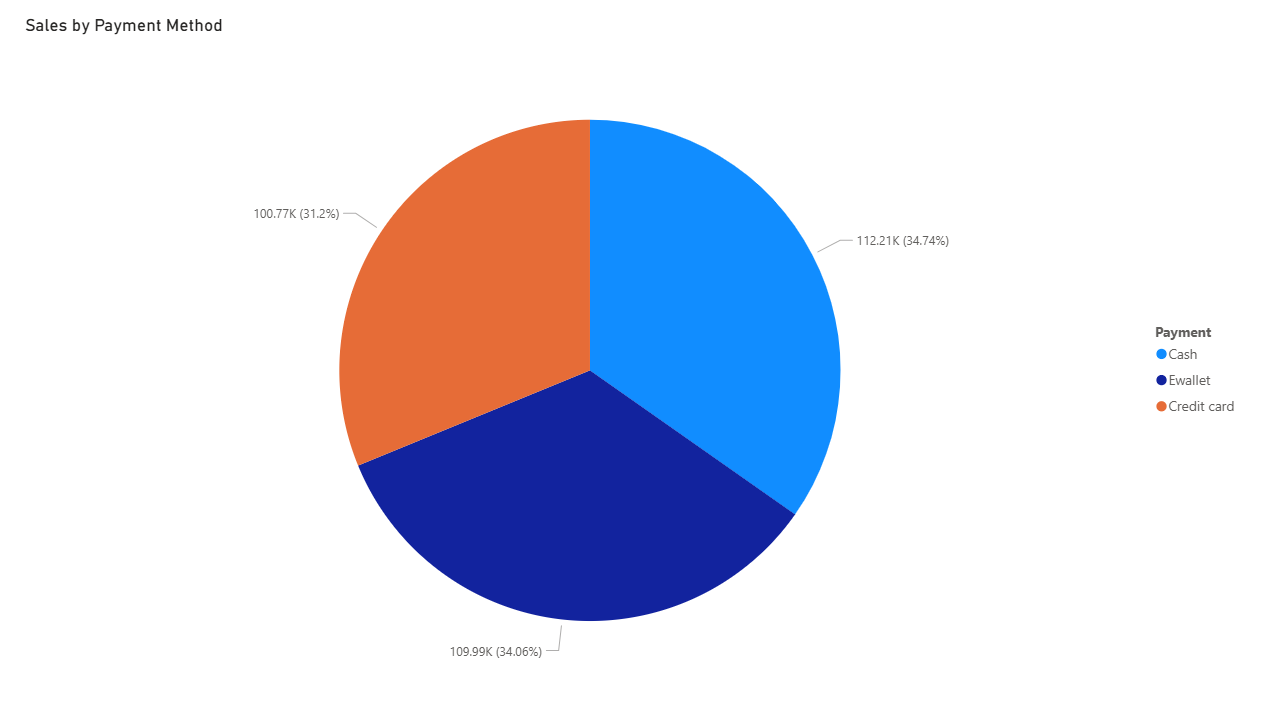

Layout of this report page (visuals, bound fields, positions):
{"tool":"powerbi","page":{"name":"Sales by Payment Method","canvas":[1280,720],"ordinal":5},"visuals":[{"type":"pieChart","title":"Sales by Payment Method","fields":{"Category":["supermarket_sales - Sheet1.Payment"],"Y":["Sum(supermarket_sales - Sheet1.Total)"]},"box":[39.8,34.3,1202.1,676.5],"z":0}]}

Visuals, with their boxes in screenshot pixels (x1, y1, x2, y2), scaled from the page's 1280x720 canvas onto the 1273x712 screenshot:
"Sales by Payment Method" pieChart: <box>40,34,1235,703</box>
